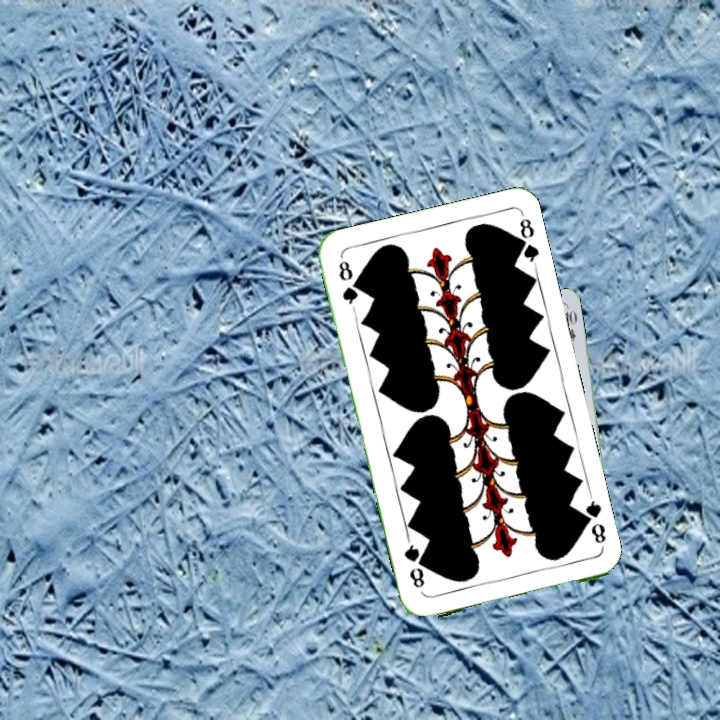G8: (576, 492, 609, 546), (334, 256, 361, 312)
